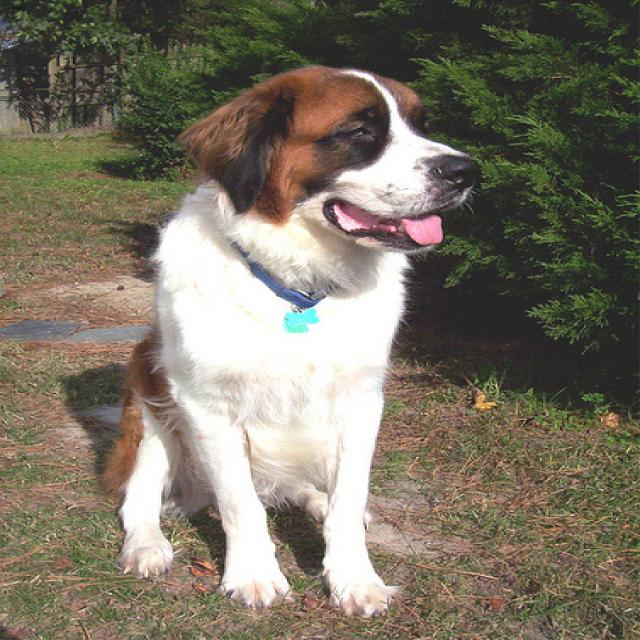dog-saint_bernard: (58, 55, 499, 632)
